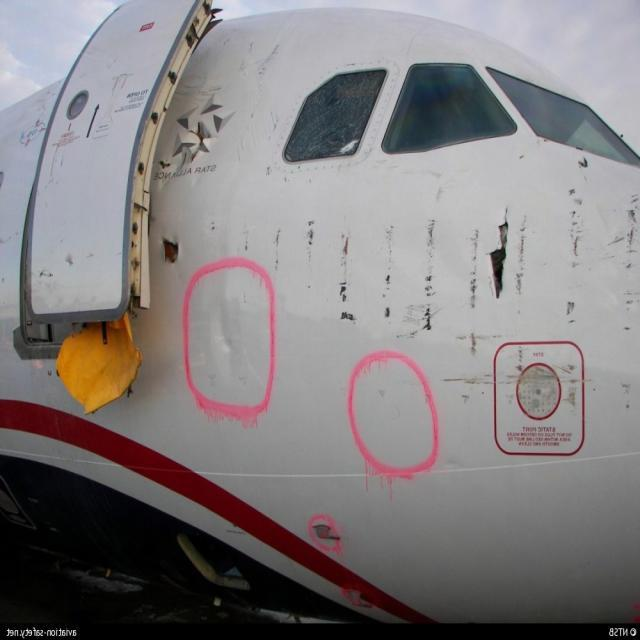crack: (488, 197, 518, 302)
dent: (210, 305, 245, 360)
